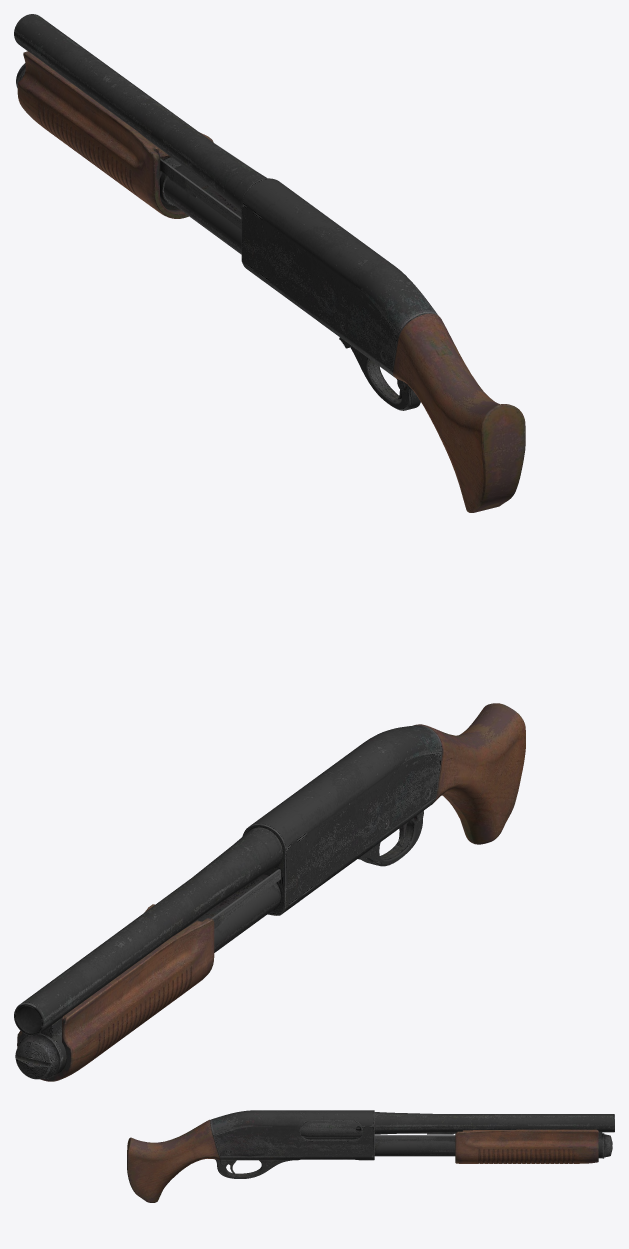
Rendered from sawedoff_r.glb.
3 views of the same model, one above another, from view 1: azimuth 30°, elevation 25°; view 2: azimuth 150°, elevation 25°; view 3: azimuth 270°, elevation 25° (orthographic). The views are drawn at different scales.
Parts seen in each view (by area): view 1: v_sawedoff_R; view 2: v_sawedoff_R; view 3: v_sawedoff_R.
Boxes of the visible parts, x1,y1,x2,y2 form: v_sawedoff_R: [14, 14, 525, 512]; v_sawedoff_R: [14, 703, 525, 1081]; v_sawedoff_R: [127, 1110, 614, 1202].
Size of the model in its own units: 0.0494 by 0.1853 by 0.8216.
1 material, 1 textured.
